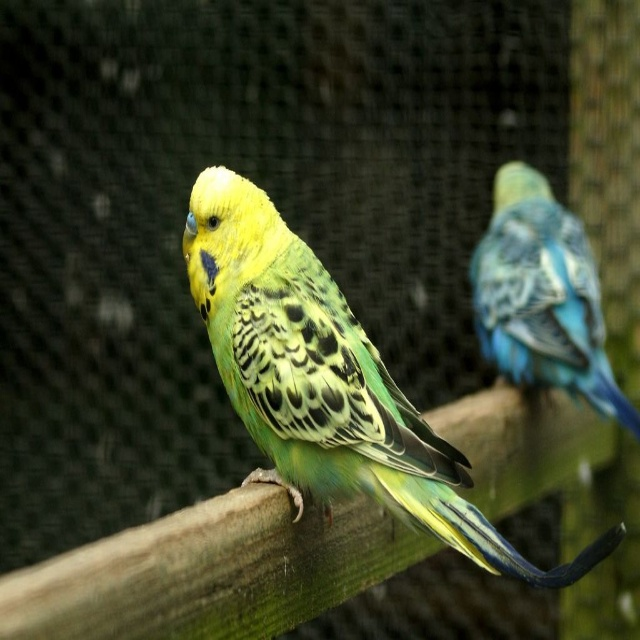Parrot: (178, 151, 640, 552), (466, 143, 640, 446)
